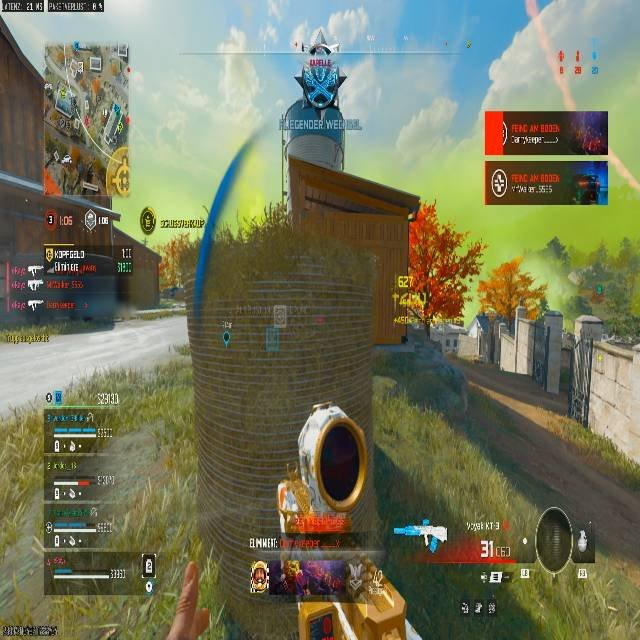player: (255, 399, 436, 638)
